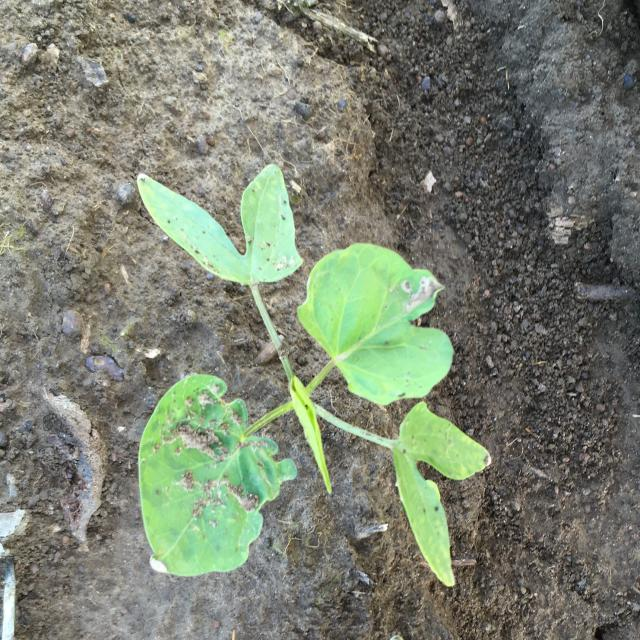MorningGlory: (137, 164, 492, 587)
